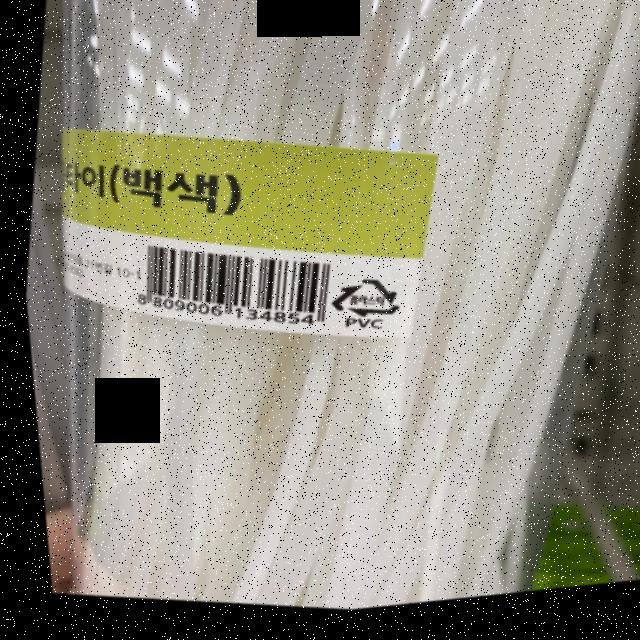Plastic: (322, 275, 403, 333)
